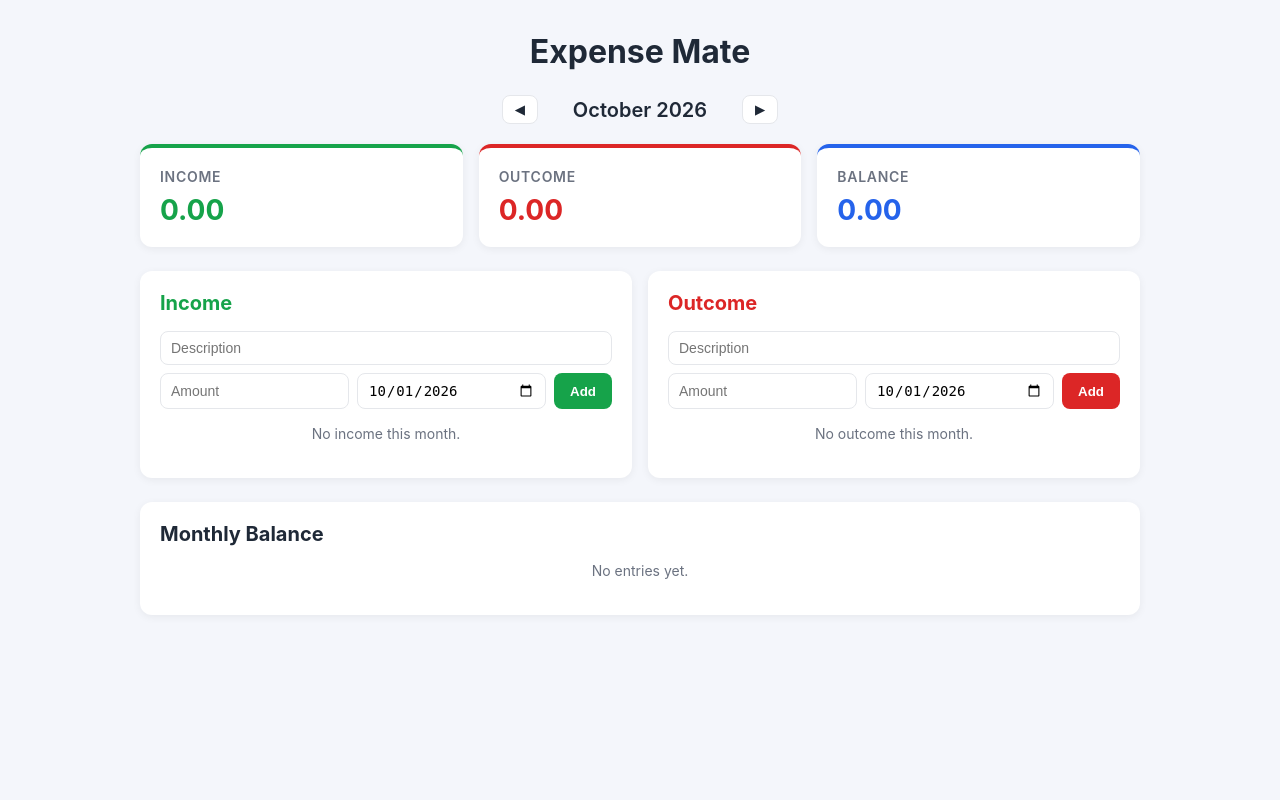
Scenario: shows balance per month
Step 1. Type "Salary" into the 1st field with placeholder "Description" → (386, 348), box [160, 331, 612, 365]
Step 2. Type "1000" into the 1st number field with placeholder "Amount" → (254, 391), box [160, 373, 349, 409]
Step 3. Click the 1st button "Add" → (583, 391), box [554, 373, 612, 409]
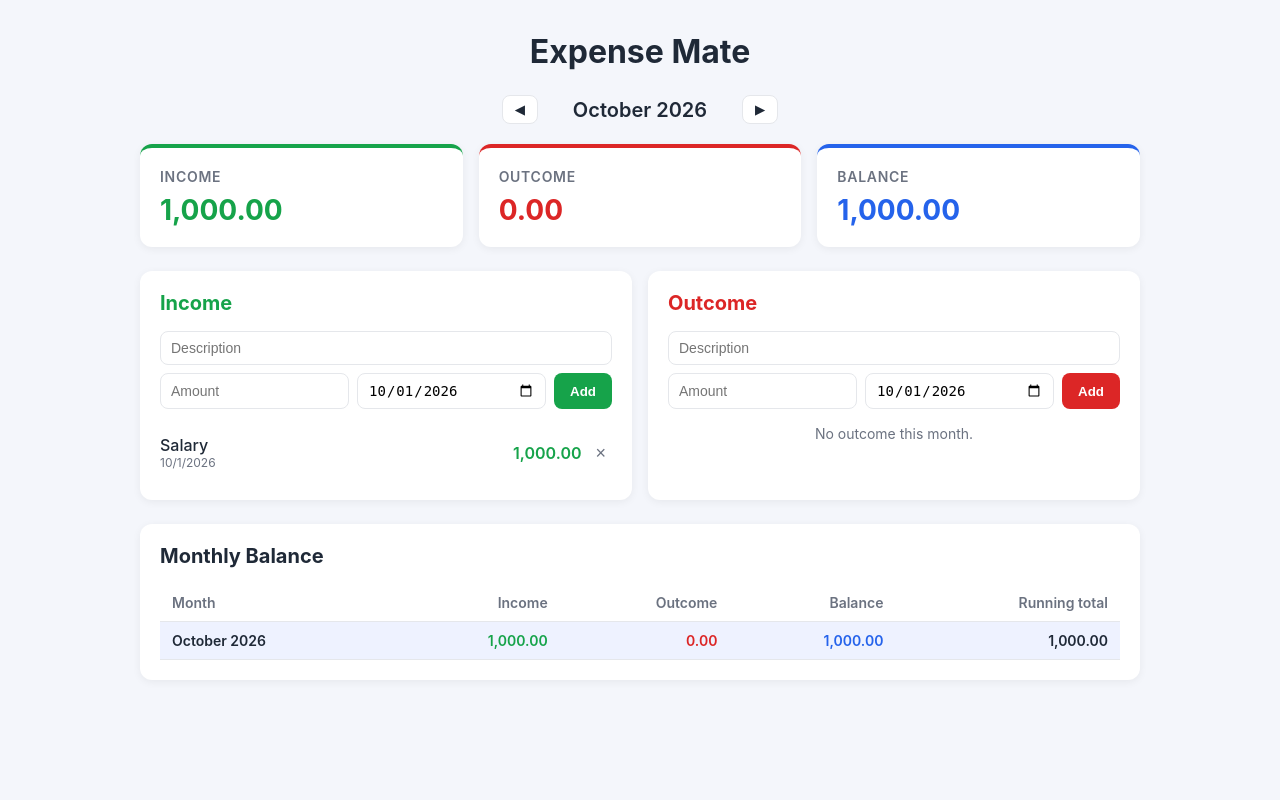
Step 4. Type "Old bill" into the 2nd field with placeholder "Description" → (894, 348), box [668, 331, 1120, 365]
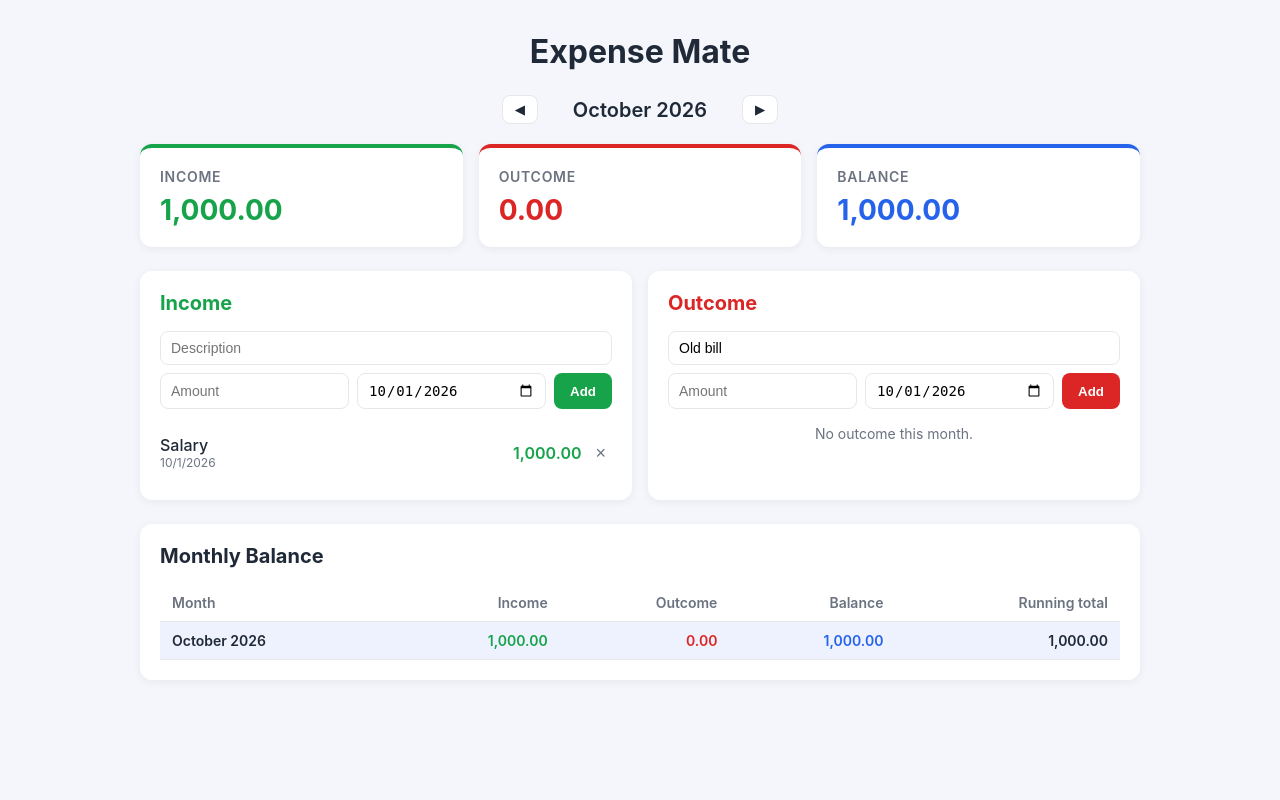
Step 5. Type "300" into the 2nd number field with placeholder "Amount" → (762, 391), box [668, 373, 857, 409]
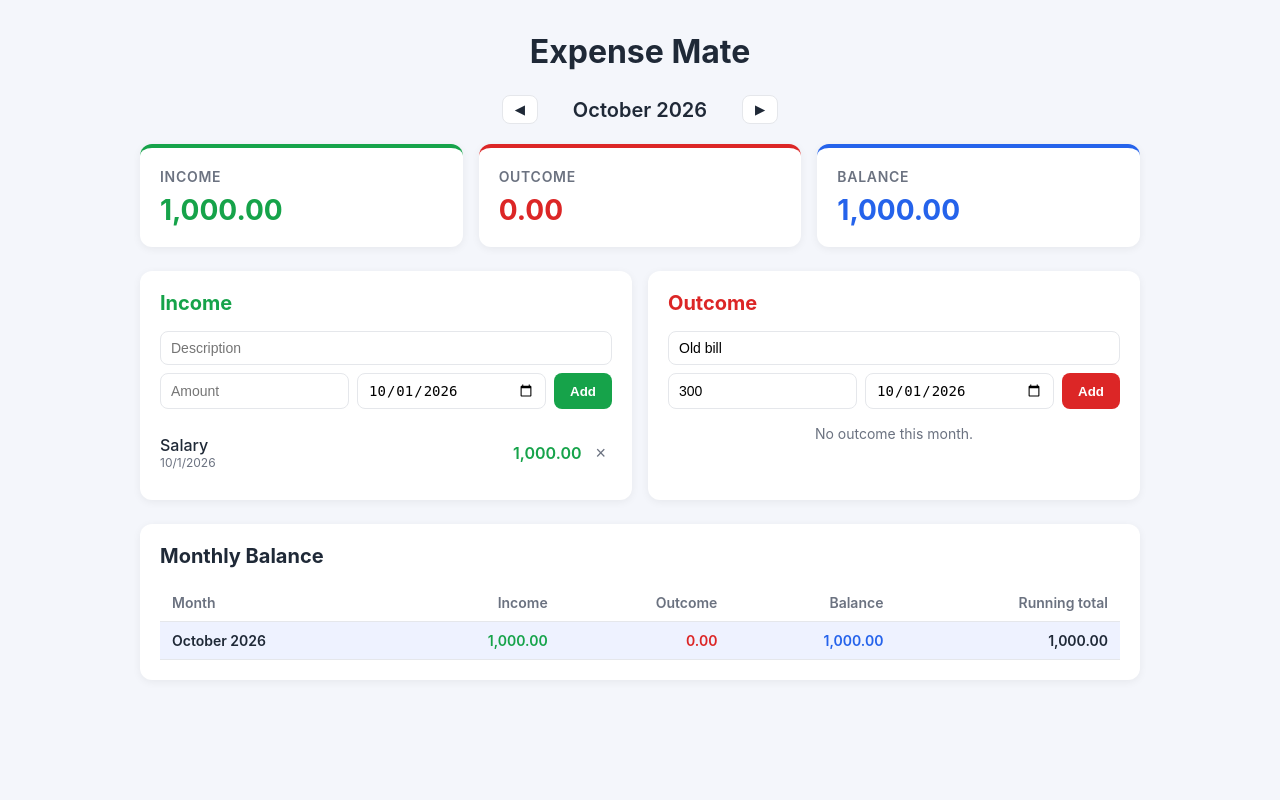
Step 6. Type "2020-01-15" into the date field named "Outcome date" → (960, 391), box [865, 373, 1054, 409]
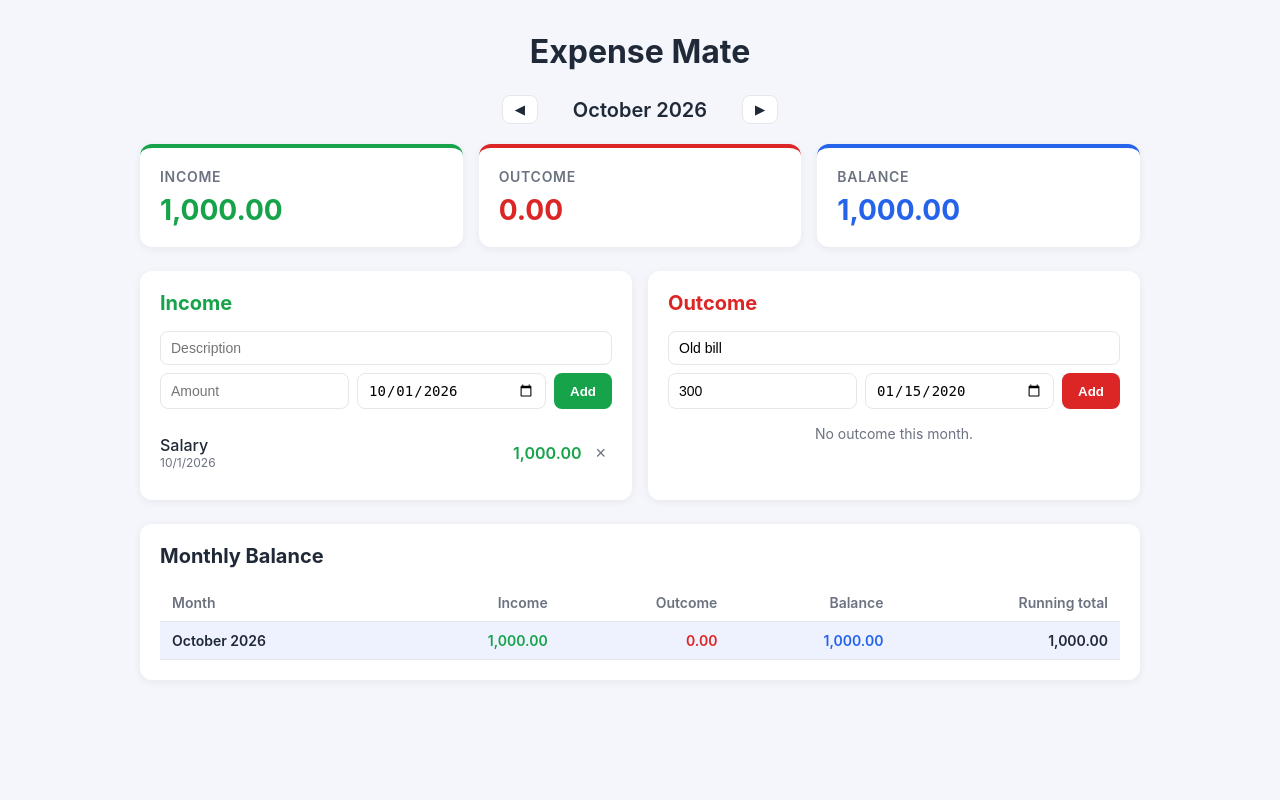
Step 7. Click the 2nd button "Add" → (1091, 391), box [1062, 373, 1120, 409]
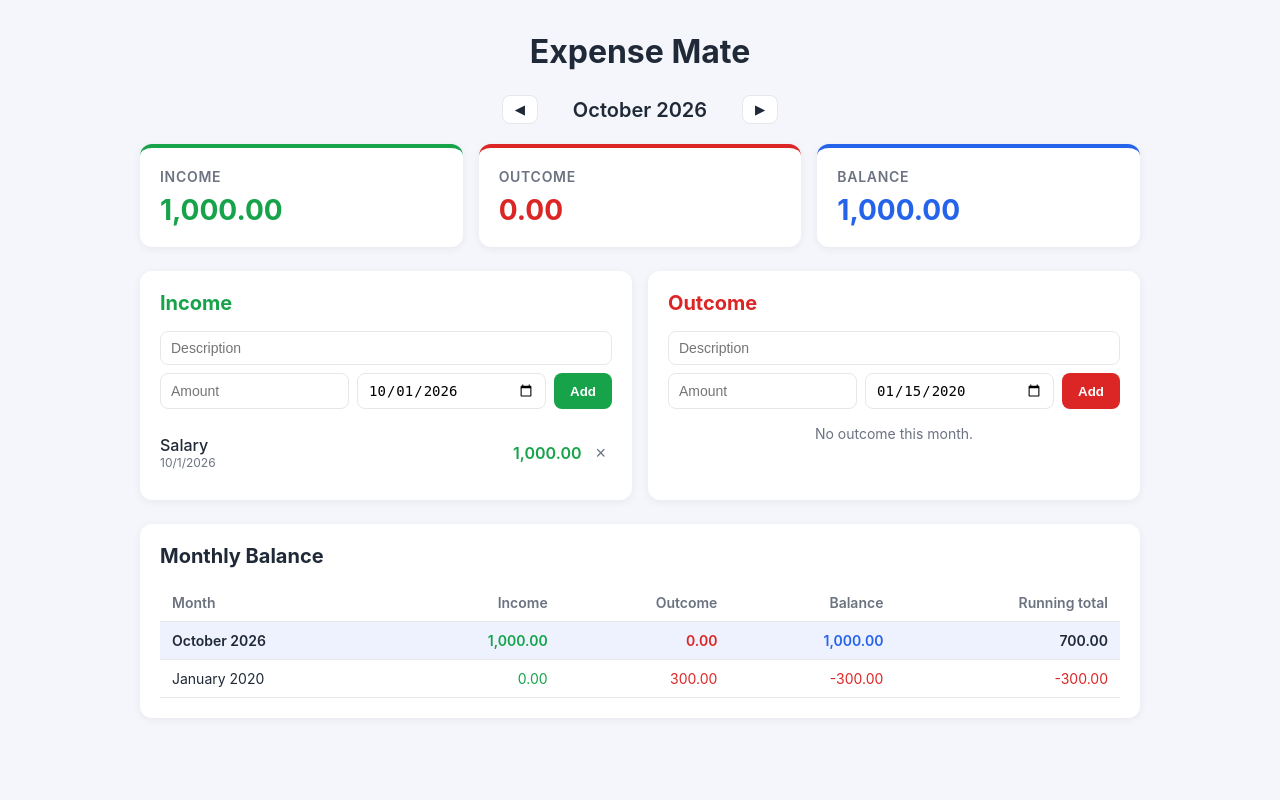
Expected: the text "Old bill" is not shown
Expected: the 2nd text "1,000.00" is shown, [837, 193, 960, 227]
Step 8. Click the cell "January 2020" → (277, 678), box [160, 660, 394, 698]
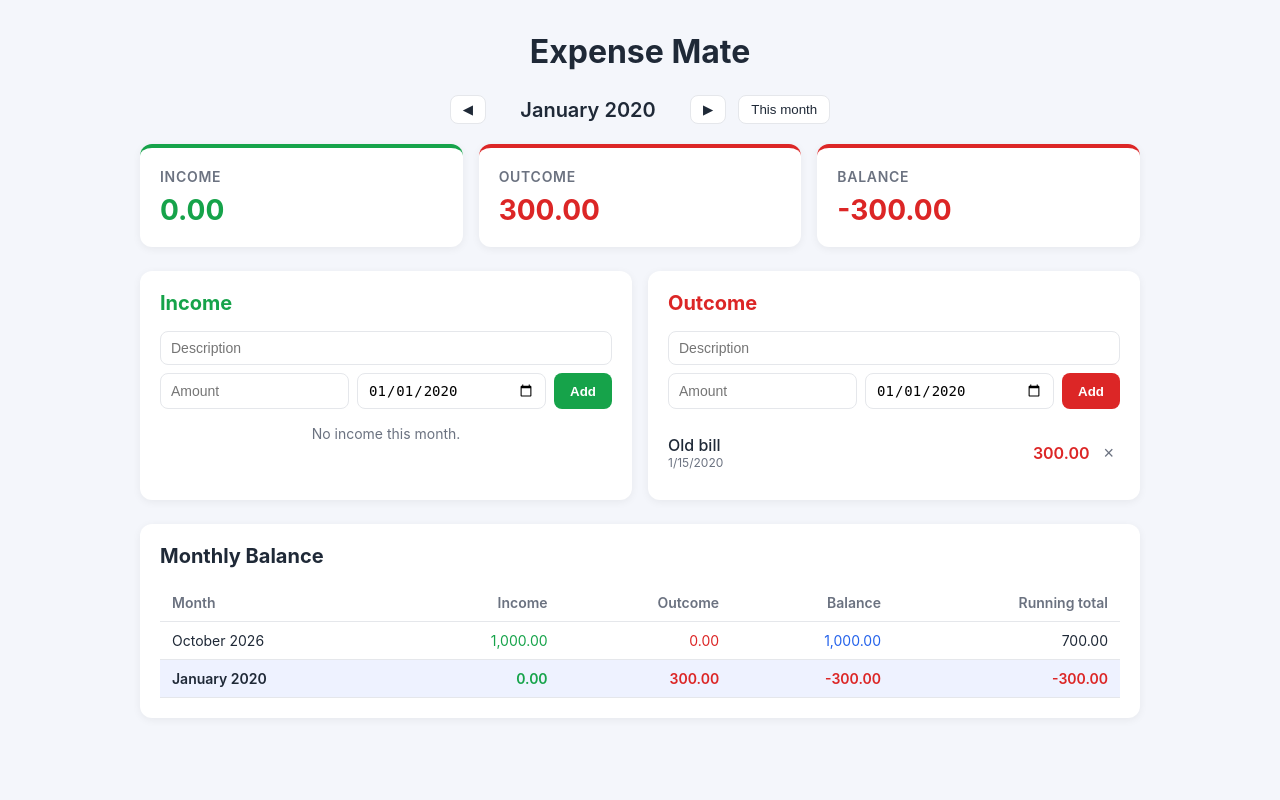
Expected: the text "Old bill" is shown, [668, 435, 723, 455]
Expected: the text "-300.00" is shown, [837, 193, 952, 227]
